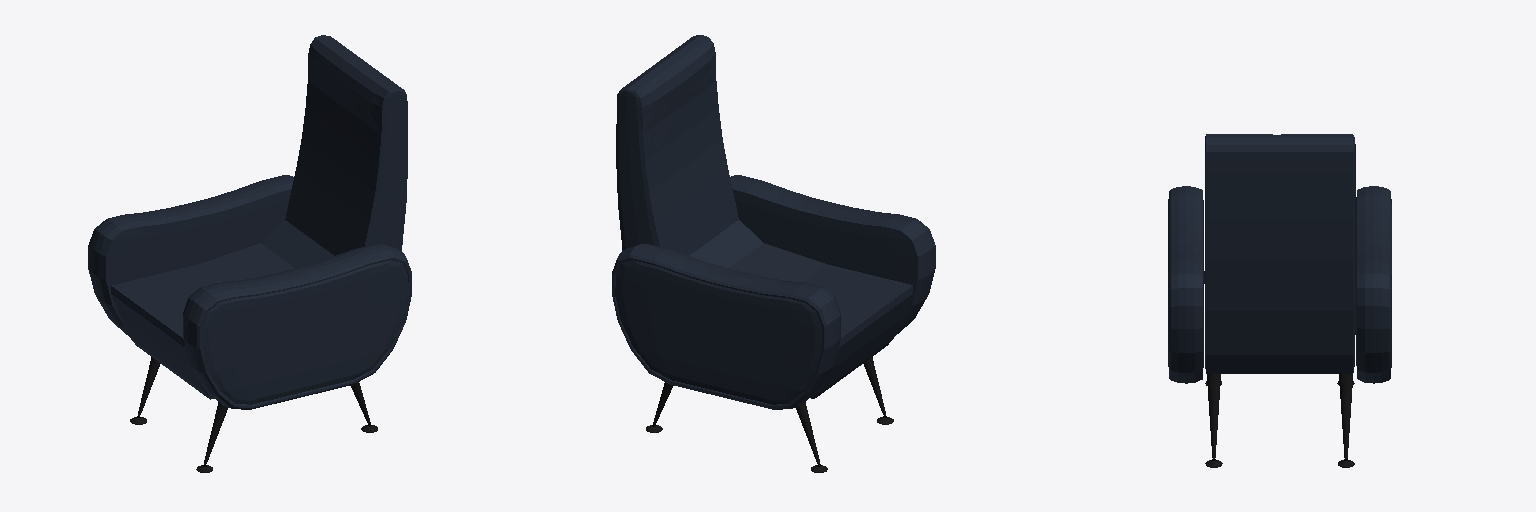
File: armchair.obj
3 renders of one model, left to right at view 1: azimuth 30°, elevation 25°; view 2: azimuth 150°, elevation 25°; view 3: azimuth 270°, elevation 25°, orthographic.
Visible parts, largest first — view 1: sofa_zul.0, sofa_zul_p; view 2: sofa_zul.0, sofa_zul_p; view 3: sofa_zul.0, sofa_zul_p.
Part boxes in pixels (bbox=[...]): sofa_zul.0: bbox=[88, 35, 411, 409]; sofa_zul_p: bbox=[130, 357, 377, 472]; sofa_zul.0: bbox=[612, 35, 935, 409]; sofa_zul_p: bbox=[646, 357, 893, 472]; sofa_zul.0: bbox=[1168, 134, 1391, 383]; sofa_zul_p: bbox=[1205, 374, 1354, 467].
Size of the model in its own units: 0.6771 by 0.949 by 0.5715.